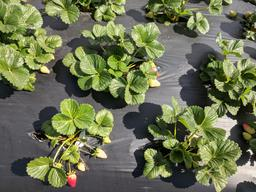green strawberry: (243, 122, 255, 133), (94, 148, 107, 158), (148, 79, 161, 87), (76, 162, 85, 171), (242, 132, 252, 140), (40, 66, 50, 73), (103, 136, 111, 144)
red strawberry: (66, 173, 77, 188)
